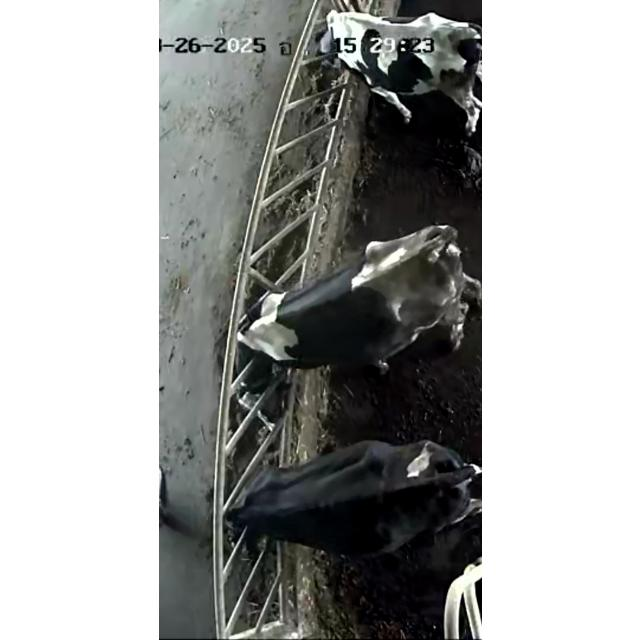eat: (186, 272, 342, 376), (184, 454, 340, 558), (264, 6, 404, 116)
